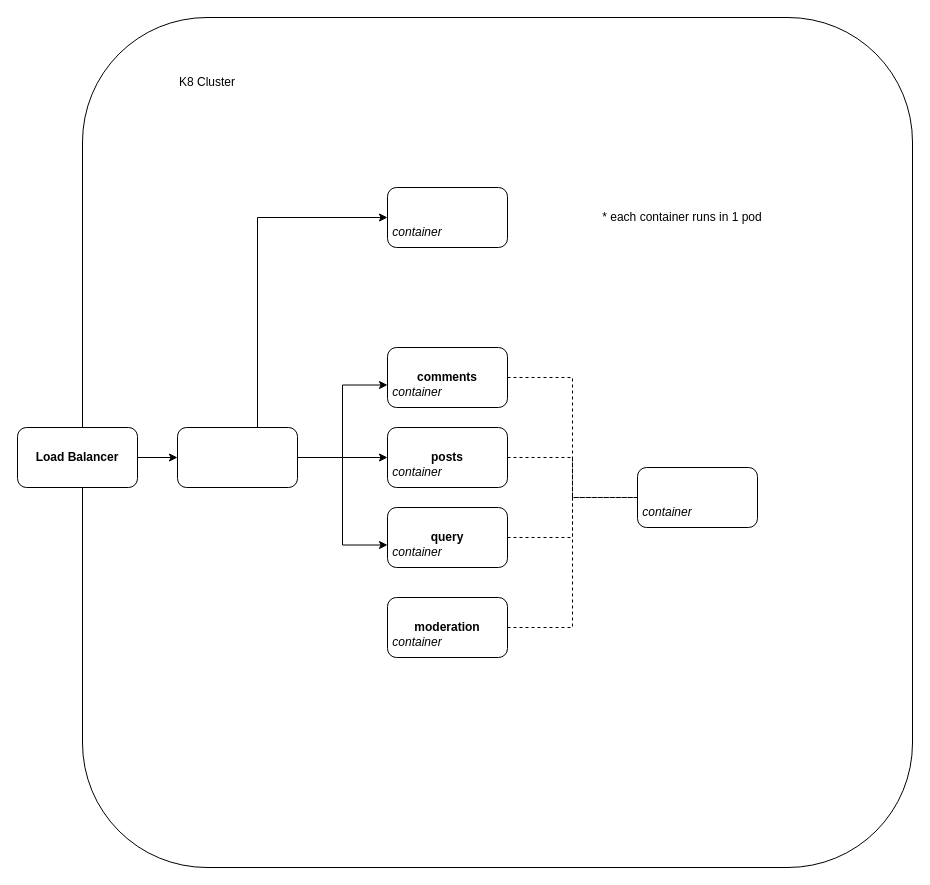
The diagram is 930 pixels wide and 885 high, and some of its shapes have lost their labels. The shapes that lost their labels are listed below. From the top down, each one's box as (x1, y1, x2, y2) in pixels, then its label:
(386, 186, 508, 248): client
(176, 426, 298, 488): Ingress
(636, 466, 758, 528): event-bus
